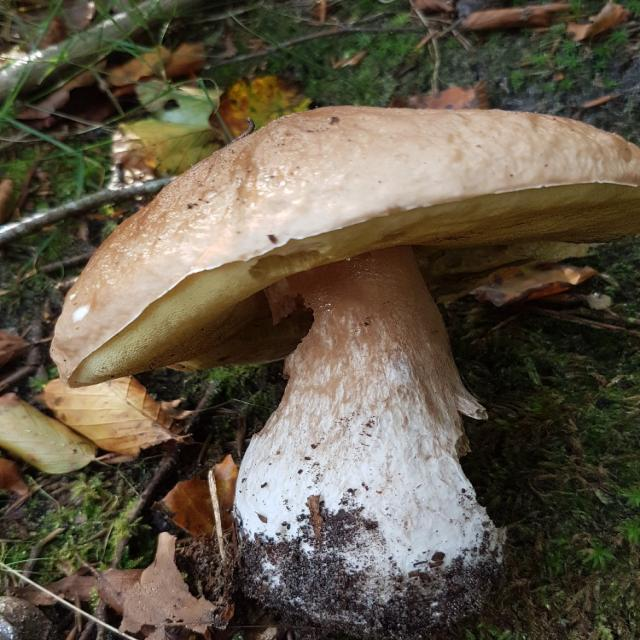Boletus: (52, 104, 639, 629)
